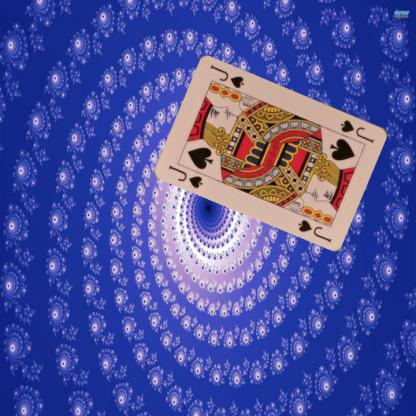Js: (338, 117, 376, 145), (166, 162, 204, 190)
